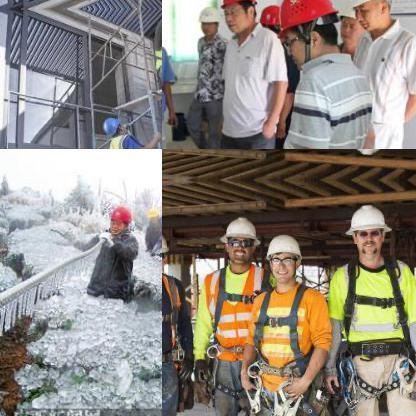Helmet: (272, 0, 332, 54), (344, 200, 390, 262), (218, 212, 260, 266), (262, 229, 304, 281), (347, 0, 398, 31), (217, 0, 258, 34), (337, 1, 365, 42), (194, 4, 221, 36), (260, 3, 282, 38), (108, 202, 132, 233), (100, 114, 128, 136), (162, 223, 172, 277), (145, 204, 159, 221)
